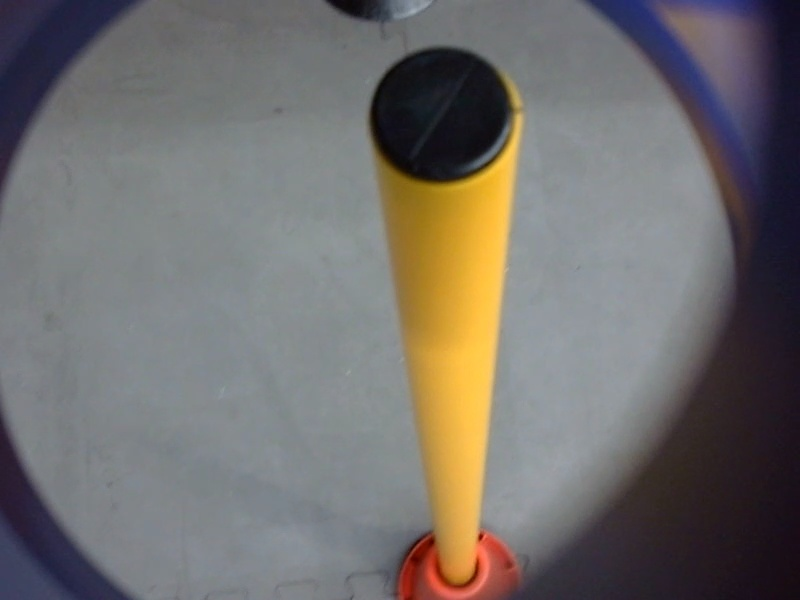tip: (358, 37, 533, 198)
